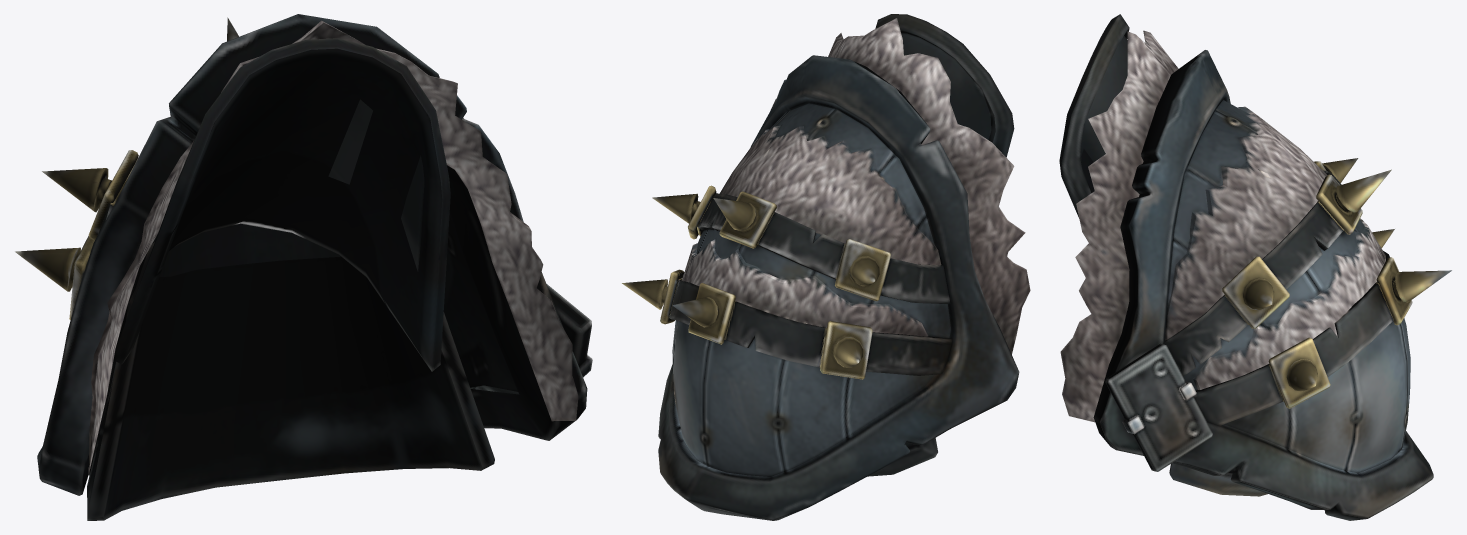
The model's file is sm_human_void_paldron_r.gltf.
3 views of the same model, side by side, from view 1: azimuth 30°, elevation 25°; view 2: azimuth 150°, elevation 25°; view 3: azimuth 270°, elevation 25° (orthographic). The views are drawn at different scales.
Visible parts, largest first — view 1: sm_human_void_paldron_r; view 2: sm_human_void_paldron_r; view 3: sm_human_void_paldron_r.
Part boxes in pixels (box(x1,y1,x2,y2)): sm_human_void_paldron_r: box(15, 14, 592, 520); sm_human_void_paldron_r: box(622, 14, 1030, 520); sm_human_void_paldron_r: box(1059, 14, 1451, 520).
Size of the model in its own units: 40.82 by 46.06 by 37.69.
1 material, 1 textured.
